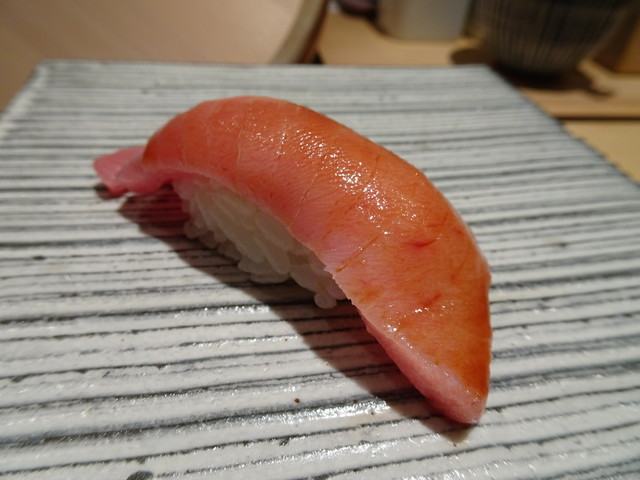medium_fatty_tuna: (93, 94, 493, 427)
